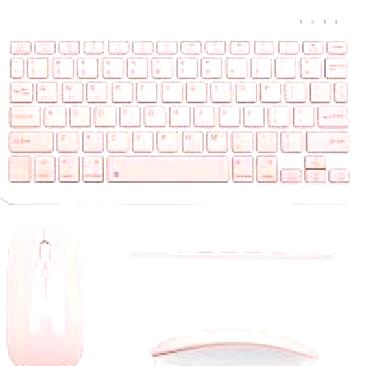keyboard: (1, 1, 360, 207)
